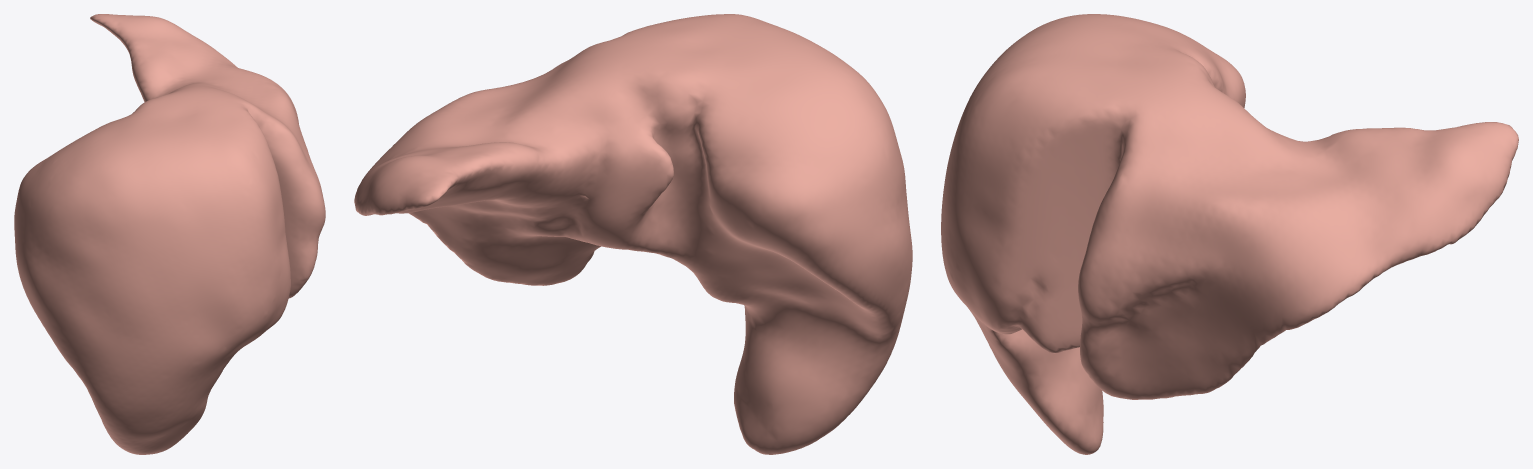
File: Liver.fbx
3 renders of one model, left to right at view 1: azimuth 30°, elevation 25°; view 2: azimuth 150°, elevation 25°; view 3: azimuth 270°, elevation 25°, orthographic. The views are drawn at different scales.
Parts seen in each view (by area): view 1: Liver_HighPoly; view 2: Liver_HighPoly; view 3: Liver_HighPoly.
Boxes of the visible parts, x1,y1,x2,y2 form: Liver_HighPoly: (14, 14, 325, 454); Liver_HighPoly: (354, 14, 912, 454); Liver_HighPoly: (941, 14, 1518, 454).
Size of what is drawn, in the model's own units: 257 by 231 by 289.
